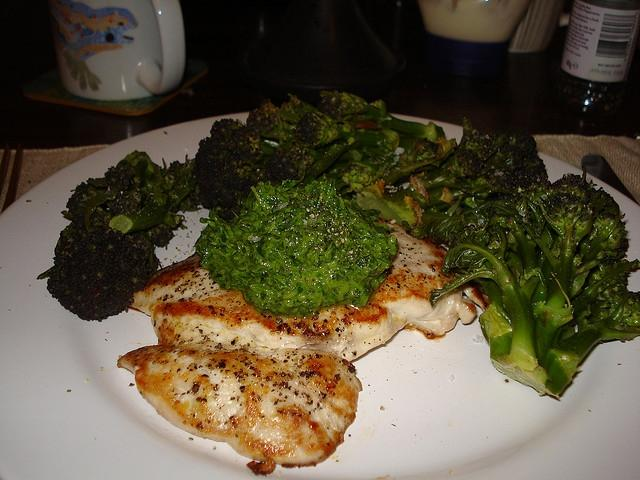broccoli: (414, 167, 640, 400), (192, 174, 398, 318), (37, 217, 159, 322), (423, 116, 551, 216), (192, 118, 276, 210), (104, 163, 142, 216), (314, 91, 370, 122), (152, 184, 168, 205), (412, 164, 436, 173)
